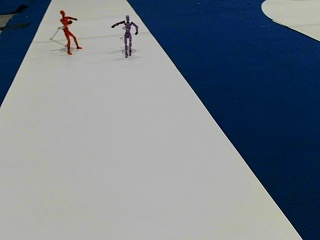pedestrian: (112, 14, 139, 56), (59, 9, 81, 54)
